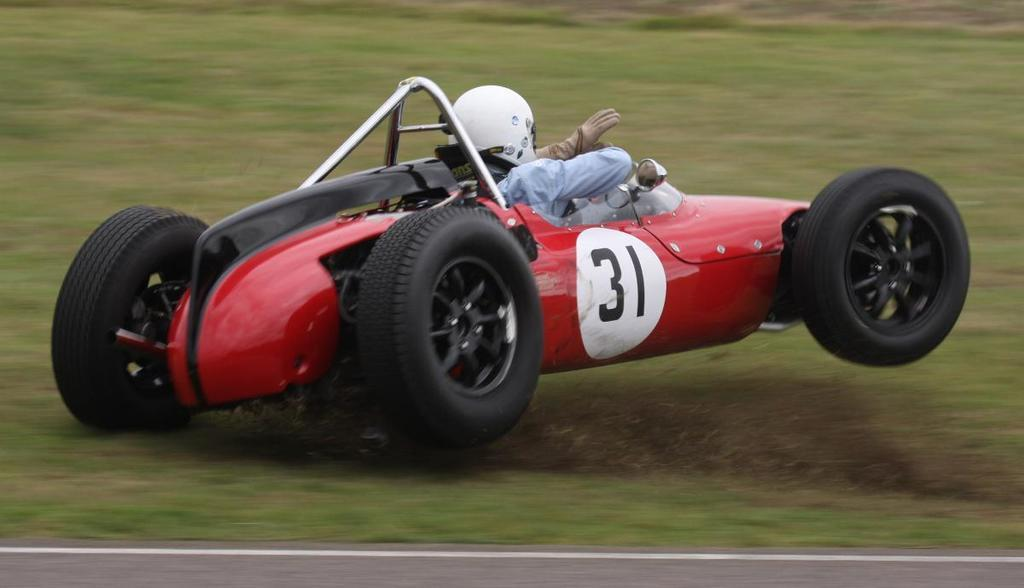helmet: (448, 84, 540, 176)
